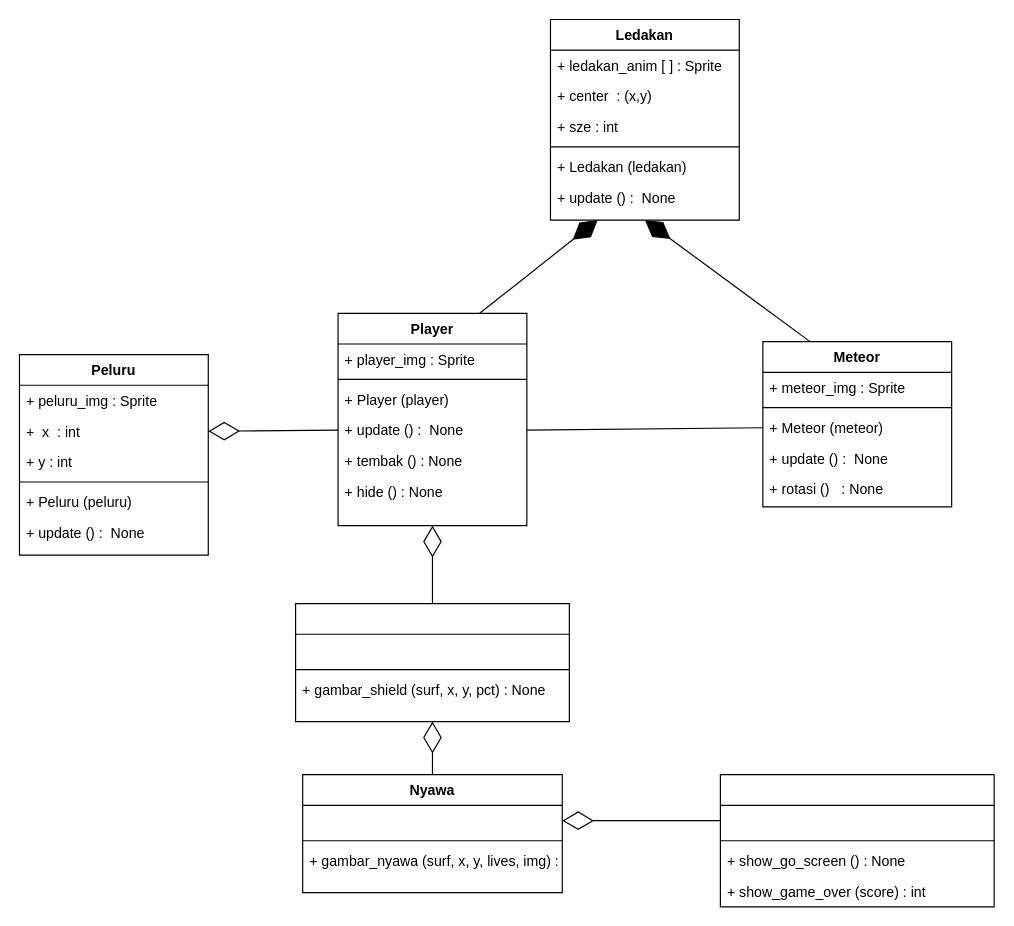
This 1014x926 diagram has some shape labels left out. The box of each missing label's shape, as (x1, y1, x2, y2) in pixels:
Menu: (719, 773, 994, 907)
ShieldBar: (294, 602, 569, 722)
